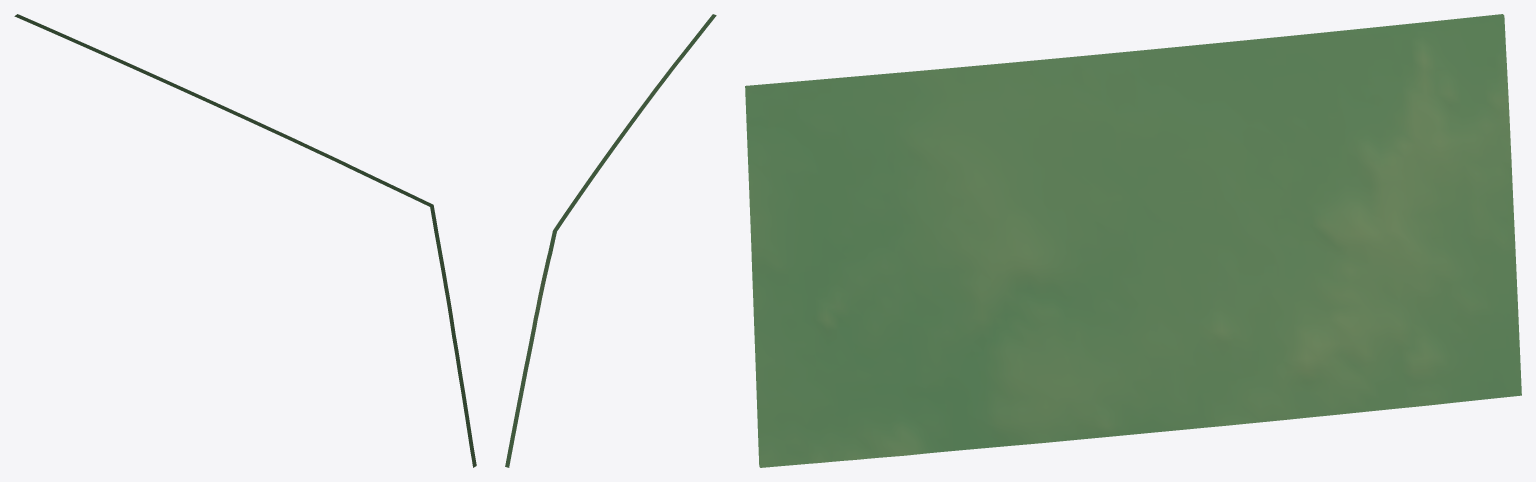
The picture shows the model from 3 angles, left to right: view 1: azimuth 30°, elevation 25°; view 2: azimuth 150°, elevation 25°; view 3: azimuth 270°, elevation 25°; orthographic projection. The views are drawn at different scales.
Visible parts, largest first — view 1: geometry_0; view 2: geometry_0; view 3: geometry_0.
Boxes of the visible parts, box(x1,y1,x2,y2) form: geometry_0: box(14, 14, 476, 467); geometry_0: box(505, 14, 716, 467); geometry_0: box(745, 14, 1521, 467).
Bounding box in the file's own units: 97732 × 153398 × 307026.
